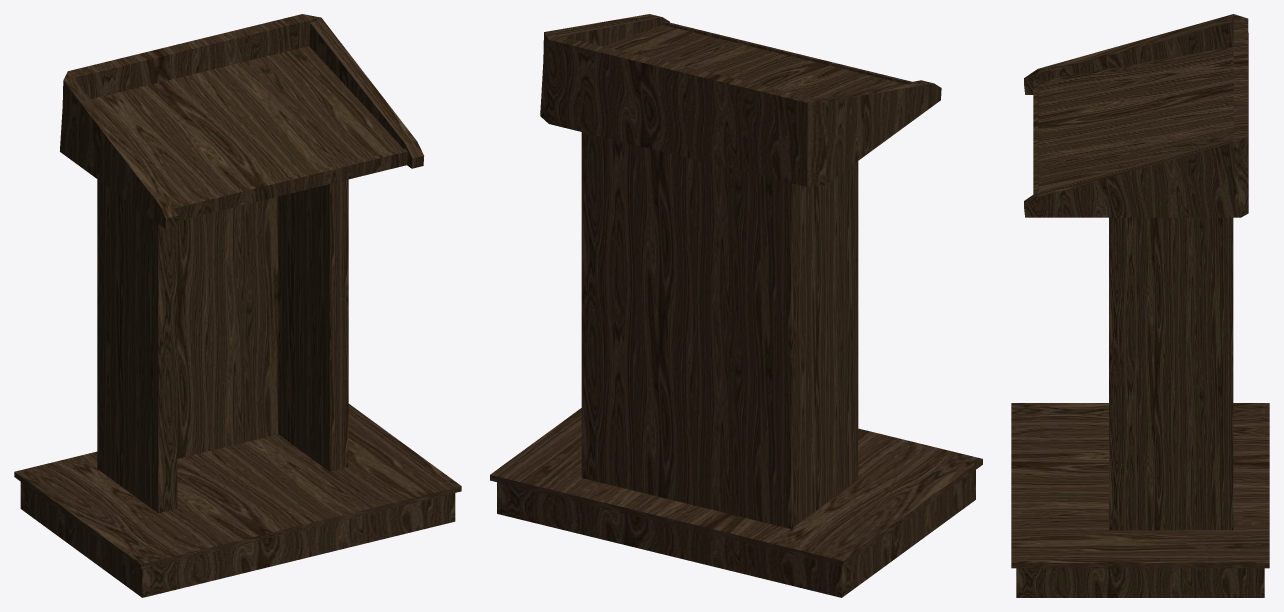
The model's file is Podium.FBX.
The picture shows the model from 3 angles, left to right: view 1: azimuth 30°, elevation 25°; view 2: azimuth 150°, elevation 25°; view 3: azimuth 270°, elevation 25°; orthographic projection. The views are drawn at different scales.
Visible parts, largest first — view 1: Box004, Box003, Box002, Box001; view 2: Box004, Box003, Box002, Box001; view 3: Box004, Box003, Box002, Box001.
Boxes of the visible parts, x1,y1,x2,y2 form: Box004: (97,179,348,513); Box003: (60,14,423,228); Box002: (14,404,461,569); Box001: (20,482,455,597); Box004: (581,132,858,528); Box003: (540,14,941,186); Box002: (490,408,982,566); Box001: (497,470,975,597); Box004: (1109,217,1233,530); Box003: (1024,14,1248,217); Box002: (1011,403,1269,568); Box001: (1016,568,1264,597).
Size of the model in its own units: 64.79 by 83.75 by 44.31.
Materials: 1 (1 with a texture image).
